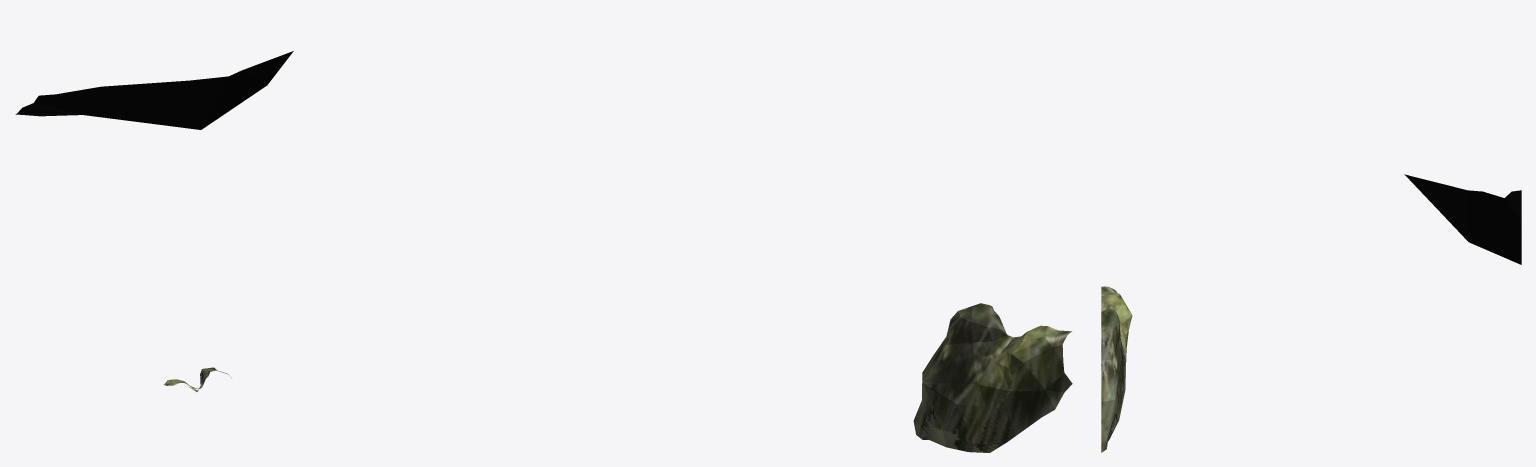
3 renders of one model, left to right at view 1: azimuth 30°, elevation 25°; view 2: azimuth 150°, elevation 25°; view 3: azimuth 270°, elevation 25°, orthographic. The views are drawn at different scales.
Bounding box in the file's own units: 2.95 × 2.95 × 2.95.
Materials: 1 (1 with a texture image).
